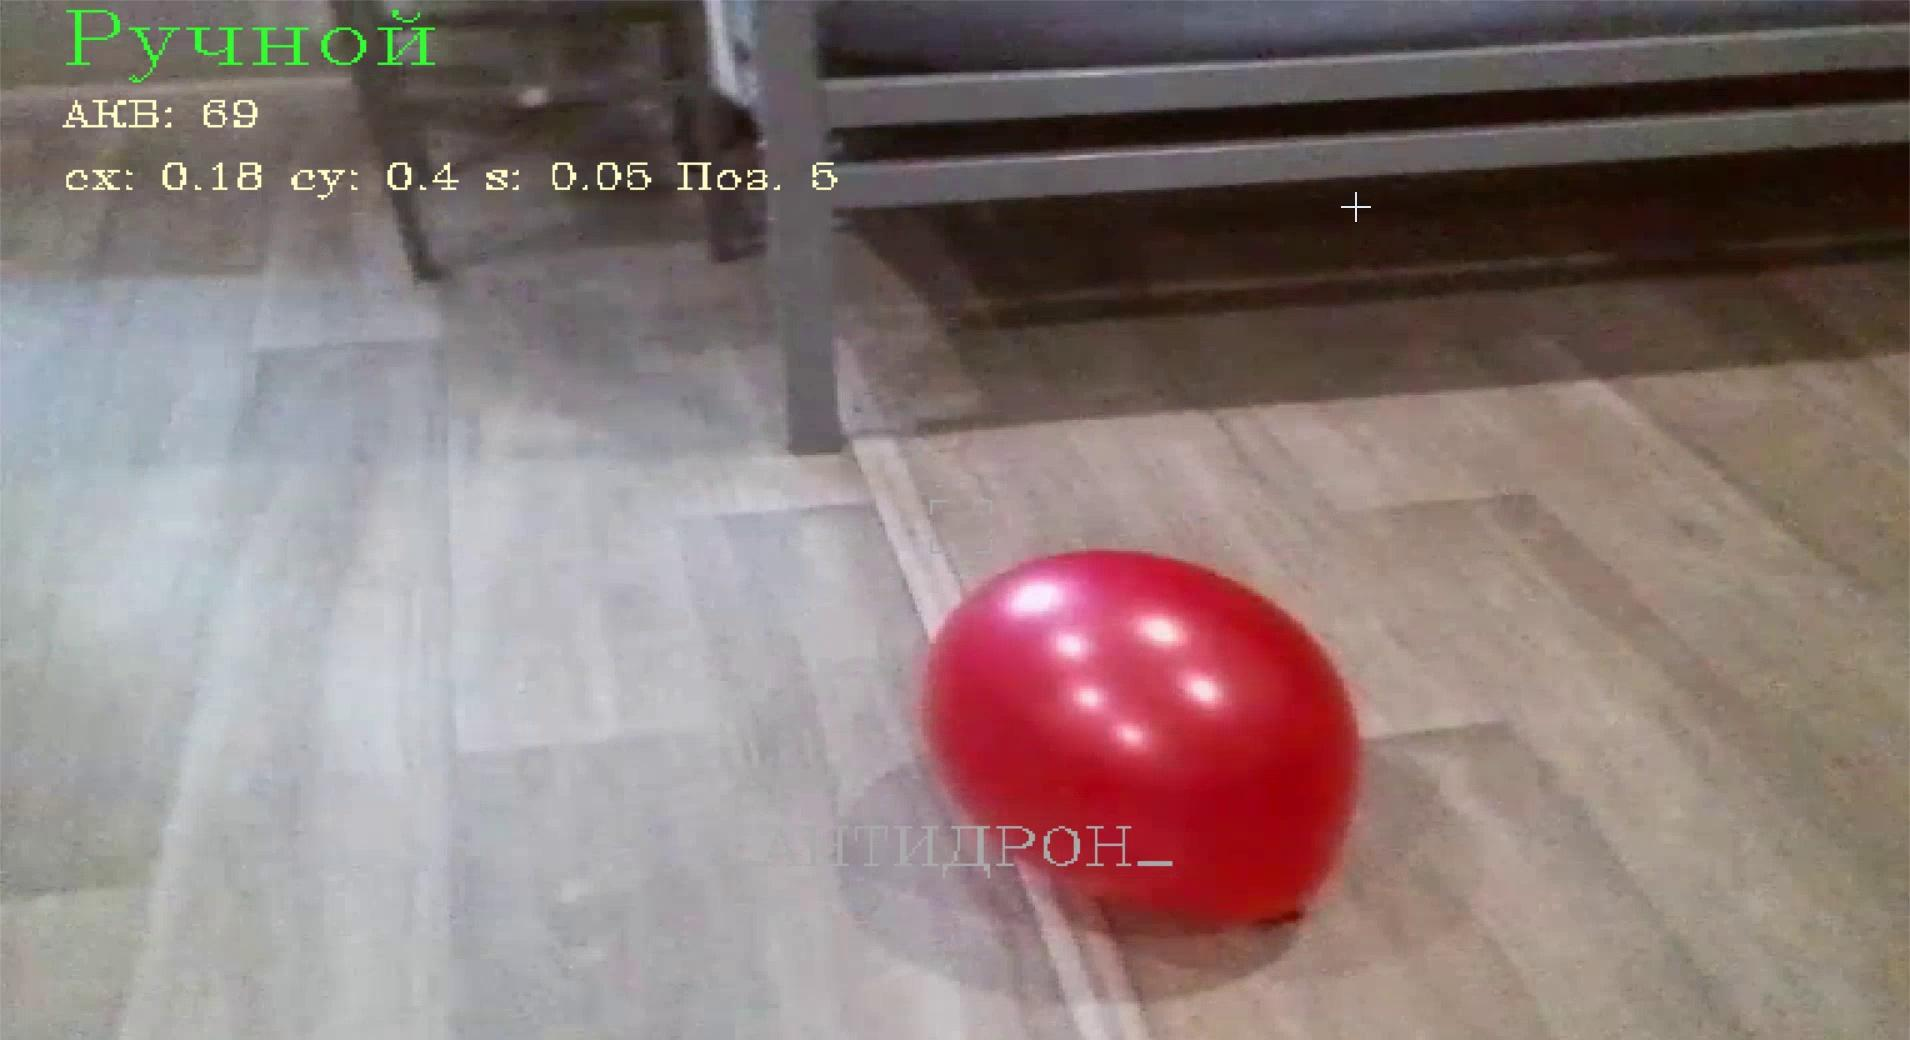red: (915, 544, 1370, 936)
